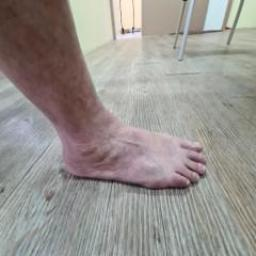Lateral View -Right Foot-: (33, 93, 222, 209)
